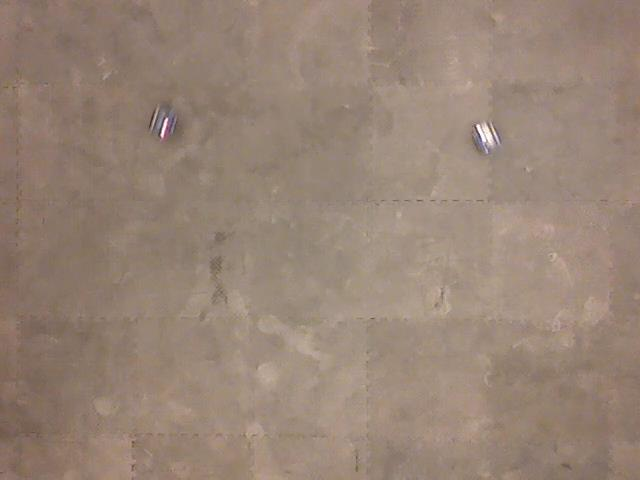Agent: (145, 102, 182, 143), (468, 117, 502, 157)
